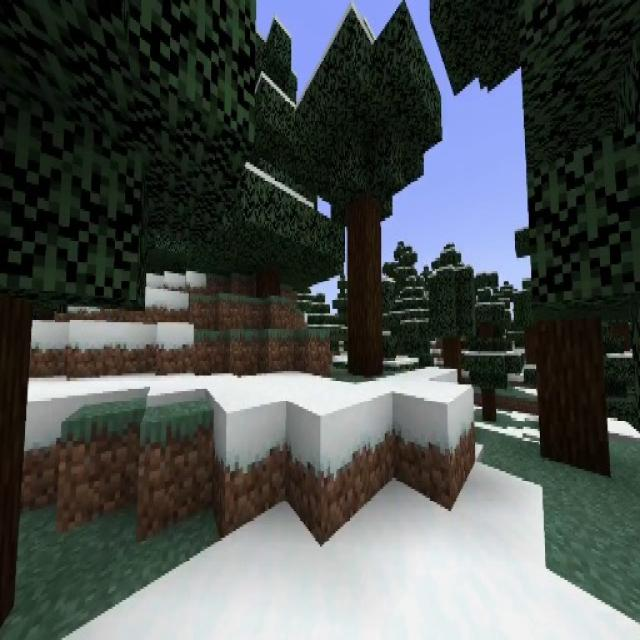spruce: (306, 10, 436, 370), (212, 17, 336, 299), (461, 269, 518, 423), (428, 244, 473, 416)
spruce_log: (535, 320, 610, 473), (349, 226, 381, 376), (443, 336, 461, 377), (260, 266, 280, 297), (482, 389, 496, 420)
